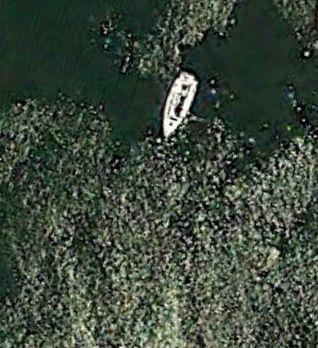Ships: (156, 65, 204, 148)
